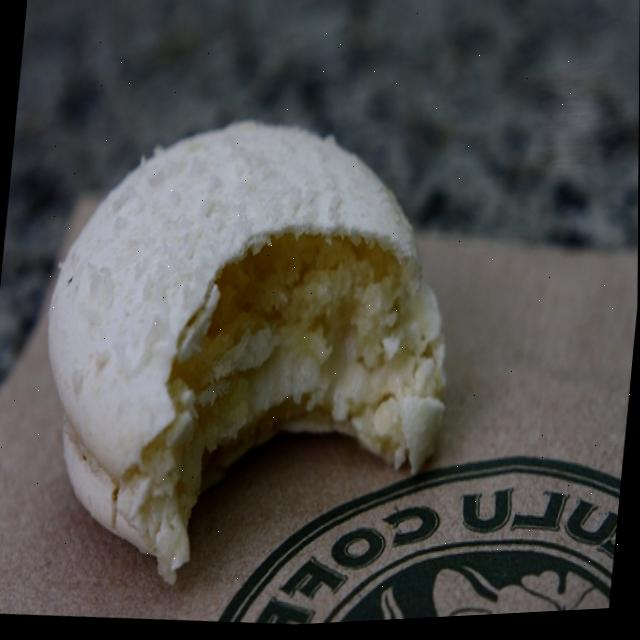蛋糕甜品: (9, 34, 543, 634)
